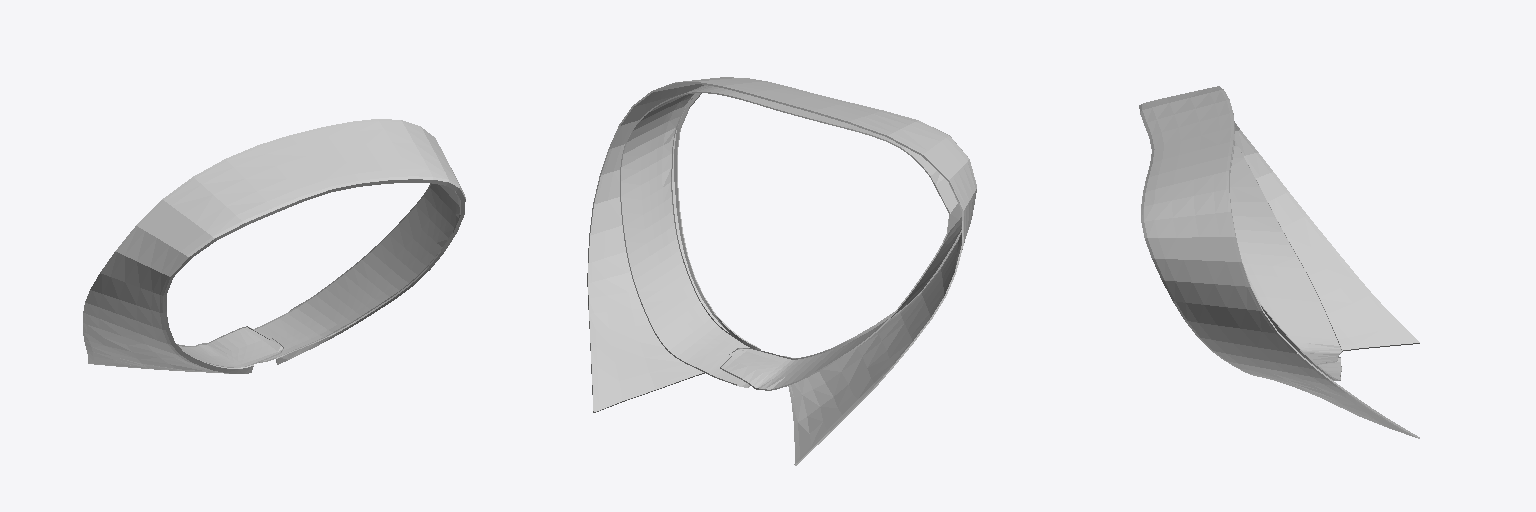
Rendered from short_point.obj.
The picture shows the model from 3 angles: view 1: azimuth 30°, elevation 25°; view 2: azimuth 150°, elevation 25°; view 3: azimuth 270°, elevation 25°; orthographic projection.
Parts seen in each view (by area): view 1: 3_short_point, inner_collar_out; view 2: 3_short_point, inner_collar_out; view 3: 3_short_point, inner_collar_out.
Boxes of the visible parts, x1=… form: 3_short_point: x1=83, y1=119, x2=465, y2=373; inner_collar_out: x1=177, y1=183, x2=459, y2=367; 3_short_point: x1=587, y1=77, x2=976, y2=465; inner_collar_out: x1=620, y1=85, x2=961, y2=390; 3_short_point: x1=1139, y1=86, x2=1419, y2=438; inner_collar_out: x1=1230, y1=134, x2=1341, y2=380.
Size of the model in its own units: 18.01 by 13.17 by 12.4.